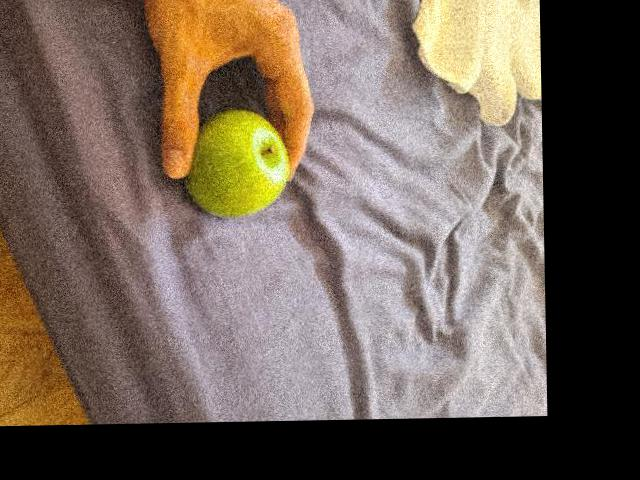apple: (183, 122, 291, 213)
